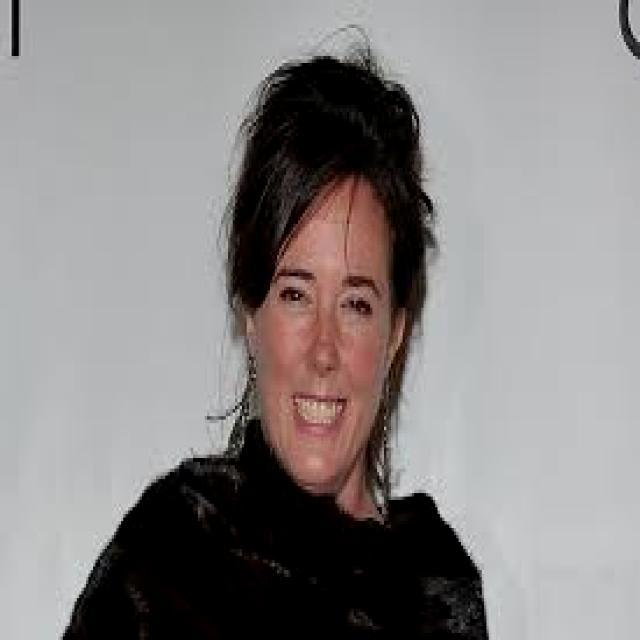normal_face: (252, 85, 402, 505)
